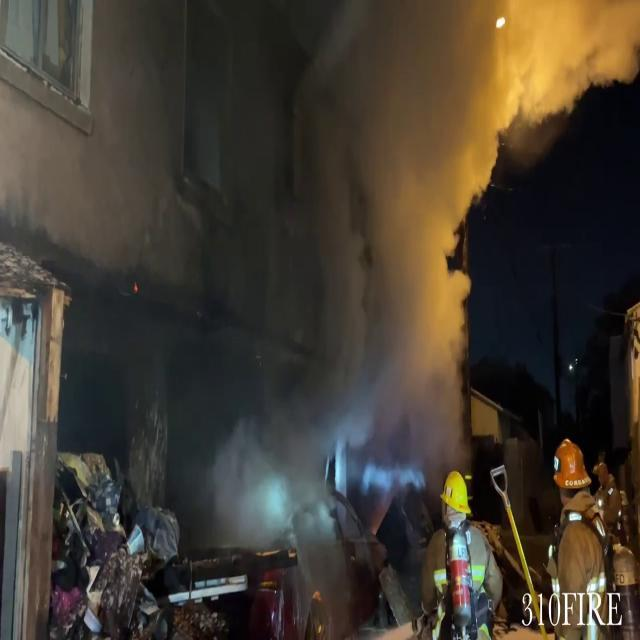Smoke: (238, 12, 517, 472), (204, 356, 374, 558)
